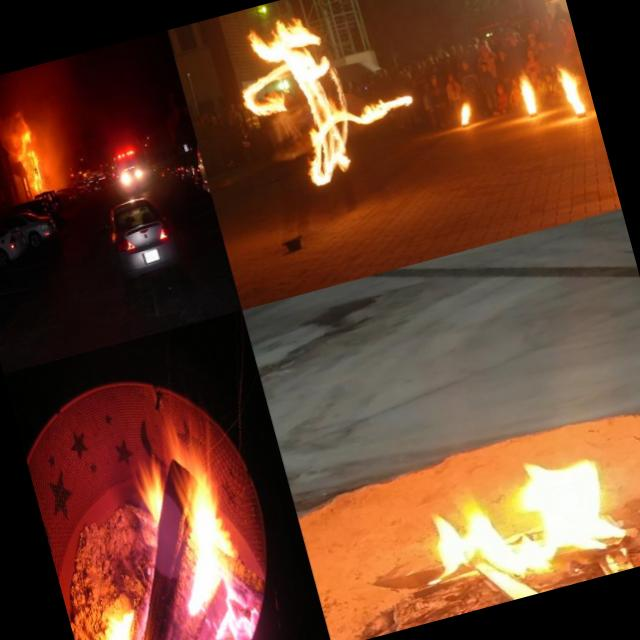fire: (376, 424, 640, 626), (60, 412, 275, 640), (220, 0, 433, 214), (10, 106, 50, 195), (506, 66, 546, 125), (550, 61, 588, 122), (446, 88, 478, 130)
smoke: (0, 98, 32, 174)
